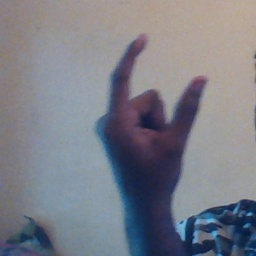U: (89, 34, 215, 175)
